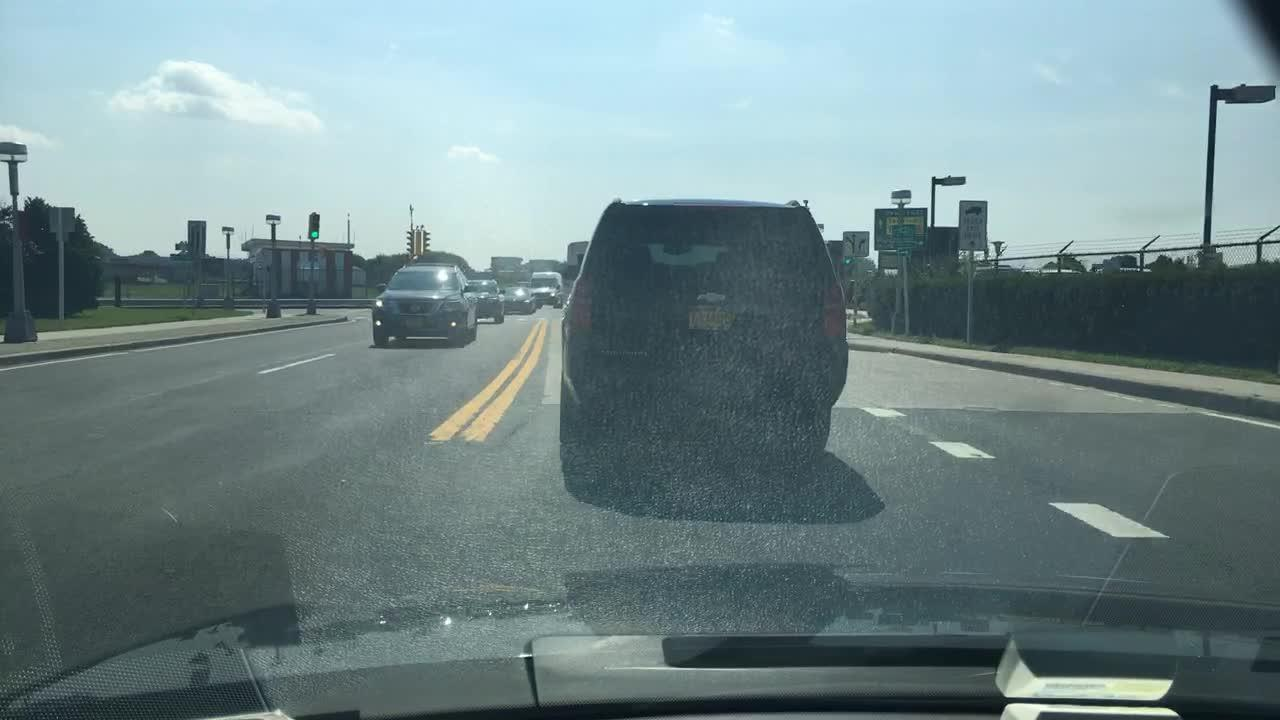chevrolet: (690, 283, 738, 311)
